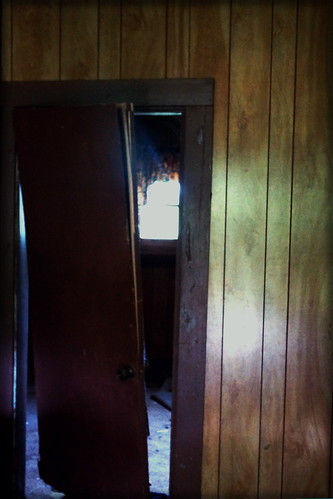door: (1, 106, 200, 499)
